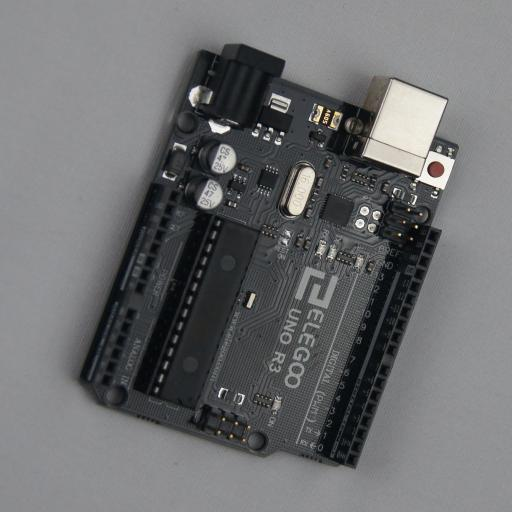Arduino Uno -Black-: (72, 43, 458, 469)
